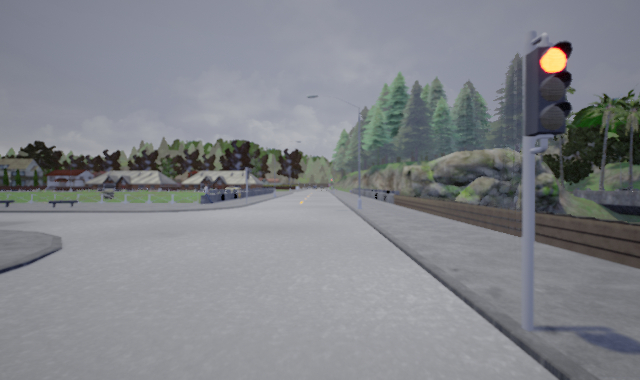pedestrian: (201, 181, 213, 203)
traffic_light: (526, 40, 575, 138)
